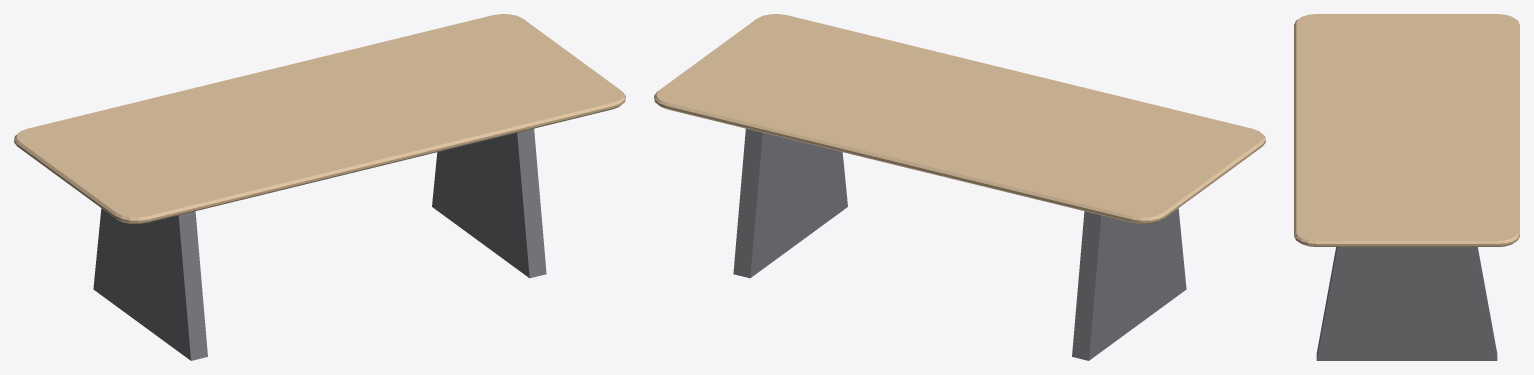
The model's file is meeting_table.glb.
3 renders of one model, left to right at view 1: azimuth 30°, elevation 25°; view 2: azimuth 150°, elevation 25°; view 3: azimuth 270°, elevation 25°, orthographic. The views are drawn at different scales.
Visible parts, largest first — view 1: meeting_table; view 2: meeting_table; view 3: meeting_table.
Part boxes in pixels (left/top/right/bottom): meeting_table: left=14, top=14, right=625, bottom=360; meeting_table: left=654, top=14, right=1265, bottom=360; meeting_table: left=1294, top=14, right=1519, bottom=360.
Bounding box in the file's own units: 2.4 × 0.75 × 1.
